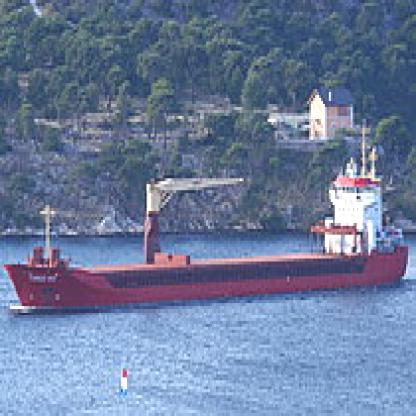Tanker: (14, 205, 416, 303)
